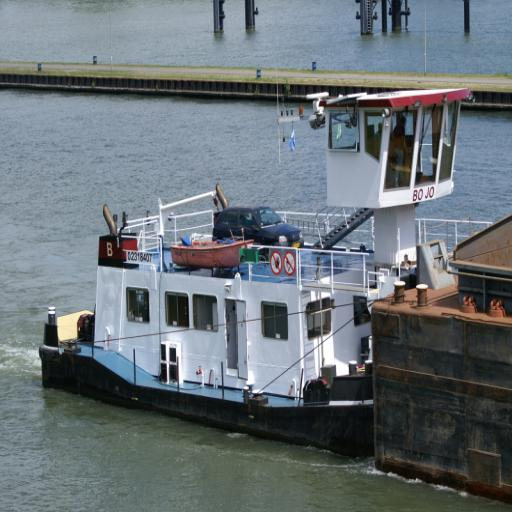tugboat: (34, 79, 503, 465)
